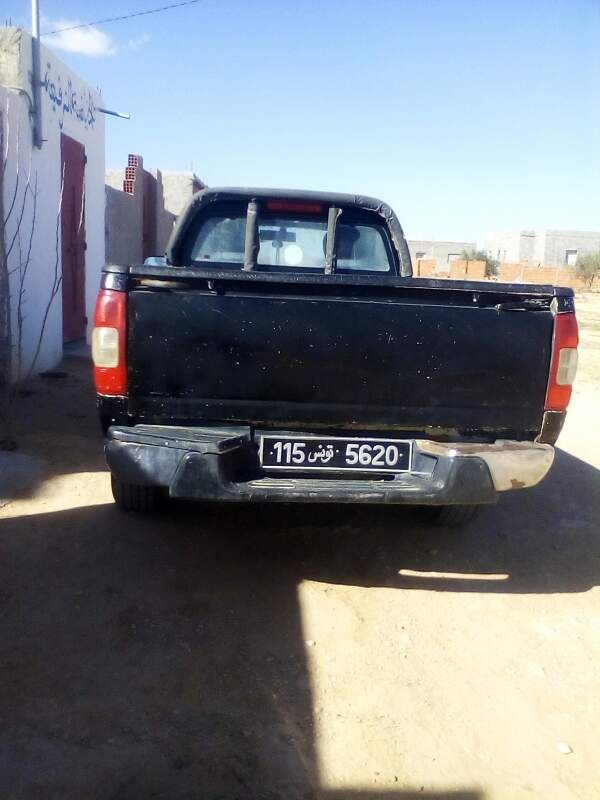LP: (259, 433, 412, 475)
